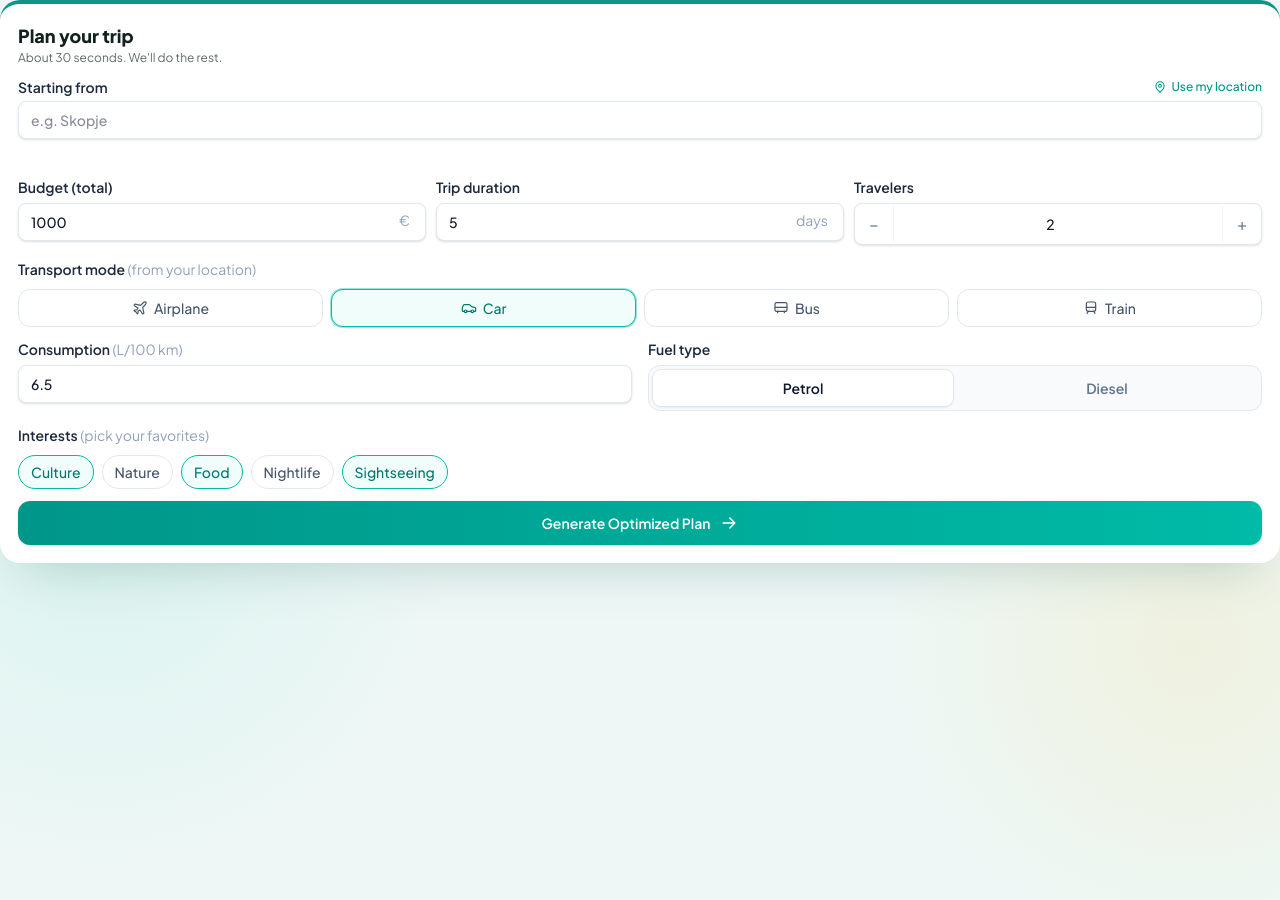
Test: TripInputForm › requires vehicle consumption for car and blocks submit when missing
Type "Skopje" into the field labelled "Starting from" at (640, 120), box 18,101 -> 1262,139
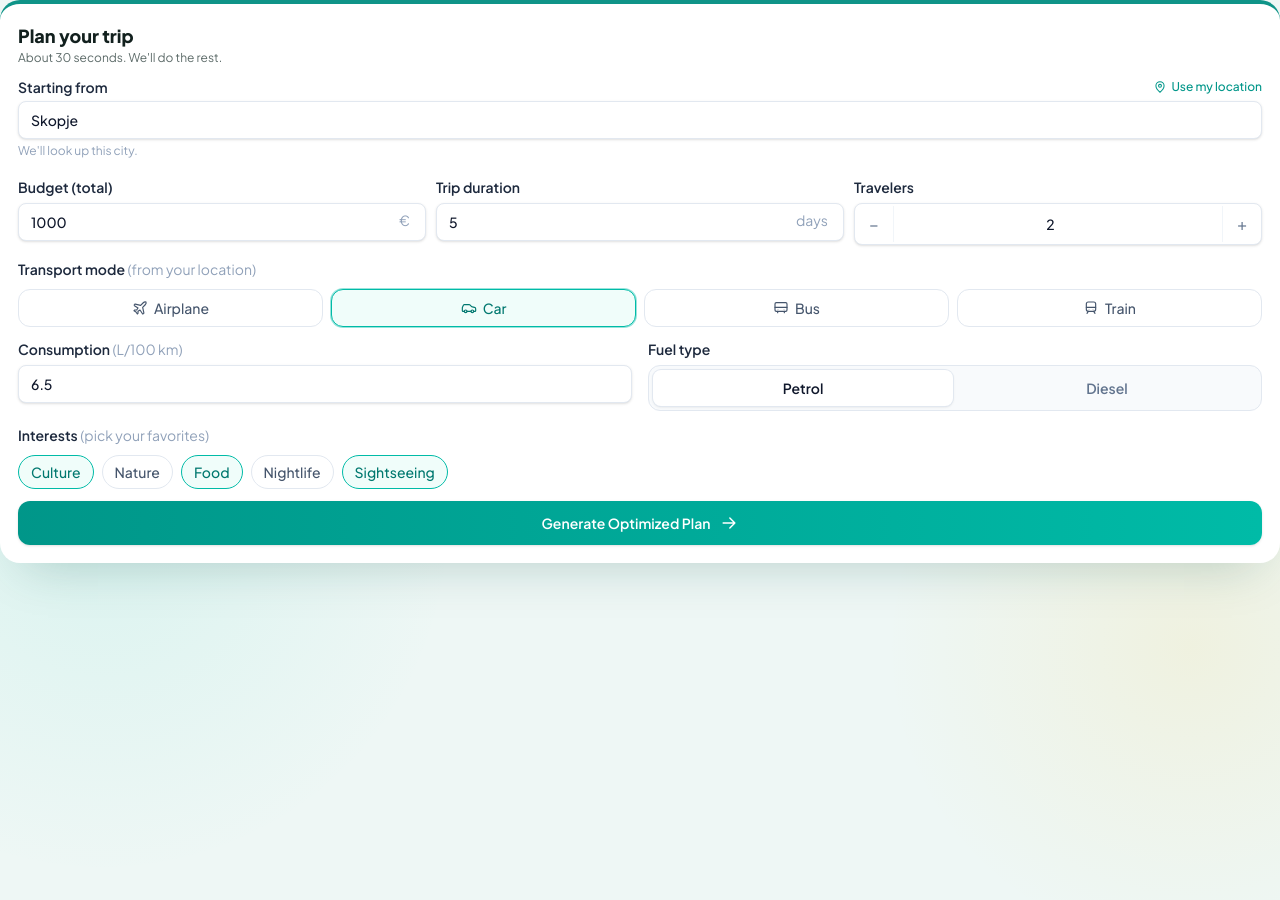
Clear the number field labelled "Consumption (L/100 km)" at (325, 384), box 18,365 -> 632,403
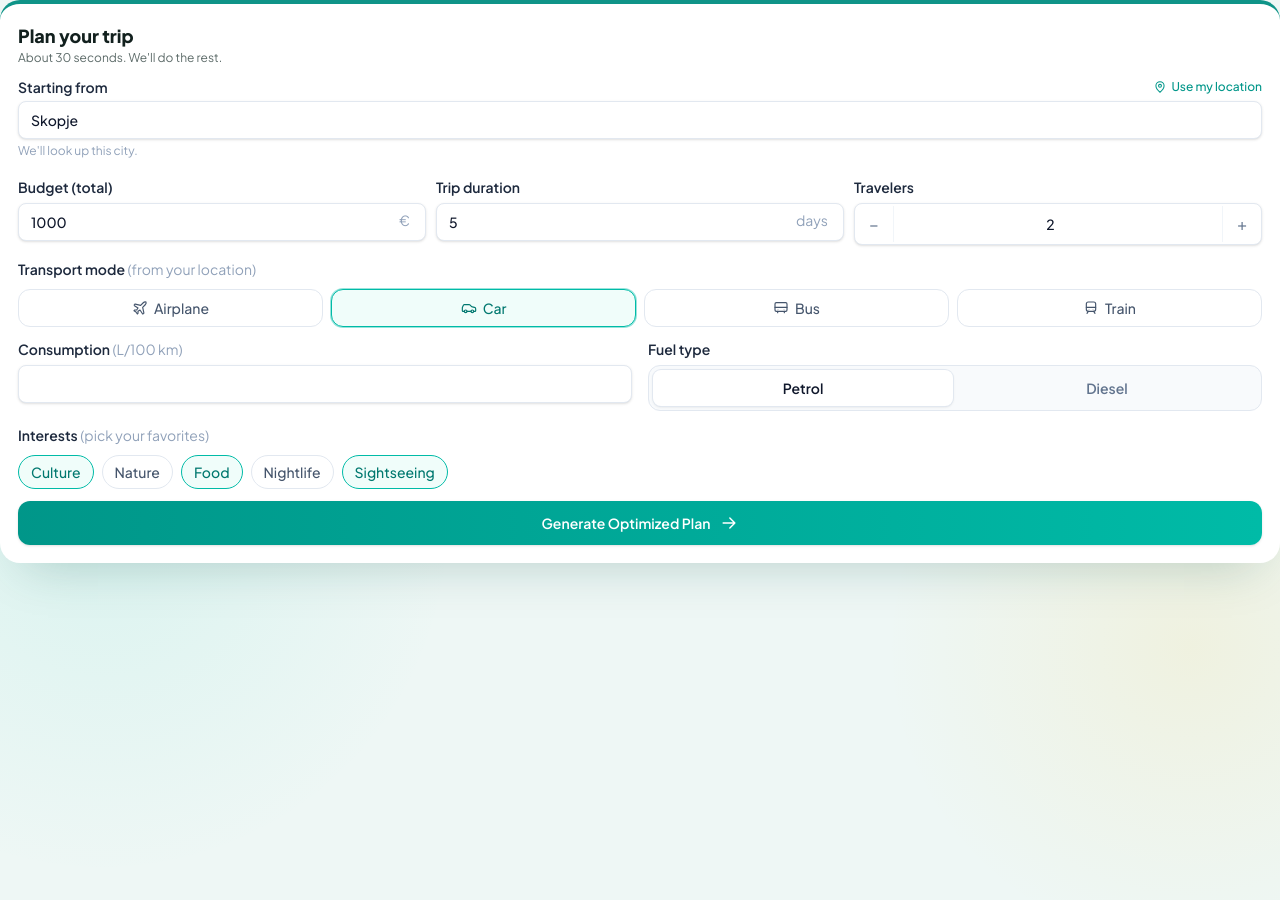
Click the button "Generate Optimized Plan" at (640, 523), box 18,501 -> 1262,545
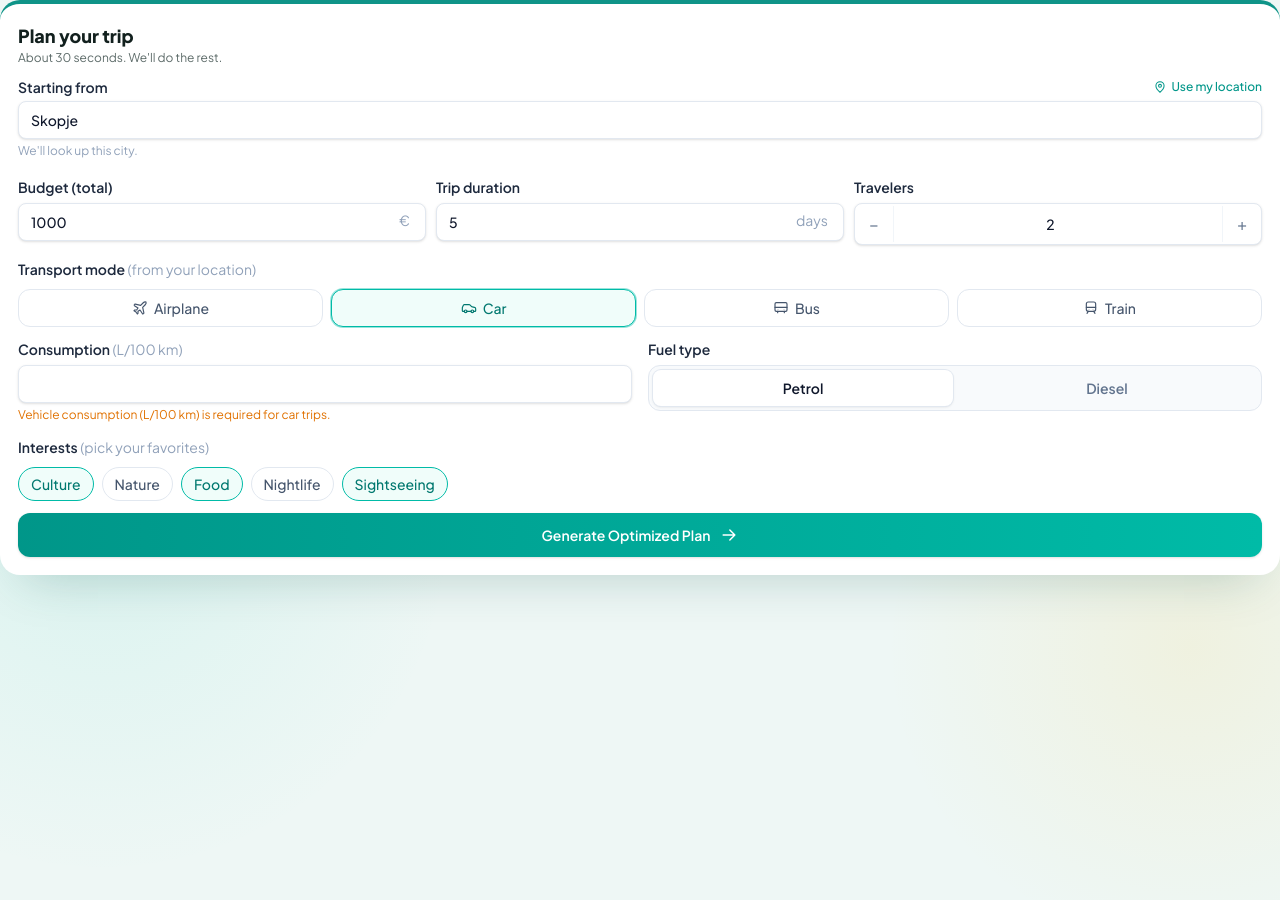
Expected: the text "Vehicle consumption (L/100 km) is required for car trips." is shown, 18,407 -> 330,422
